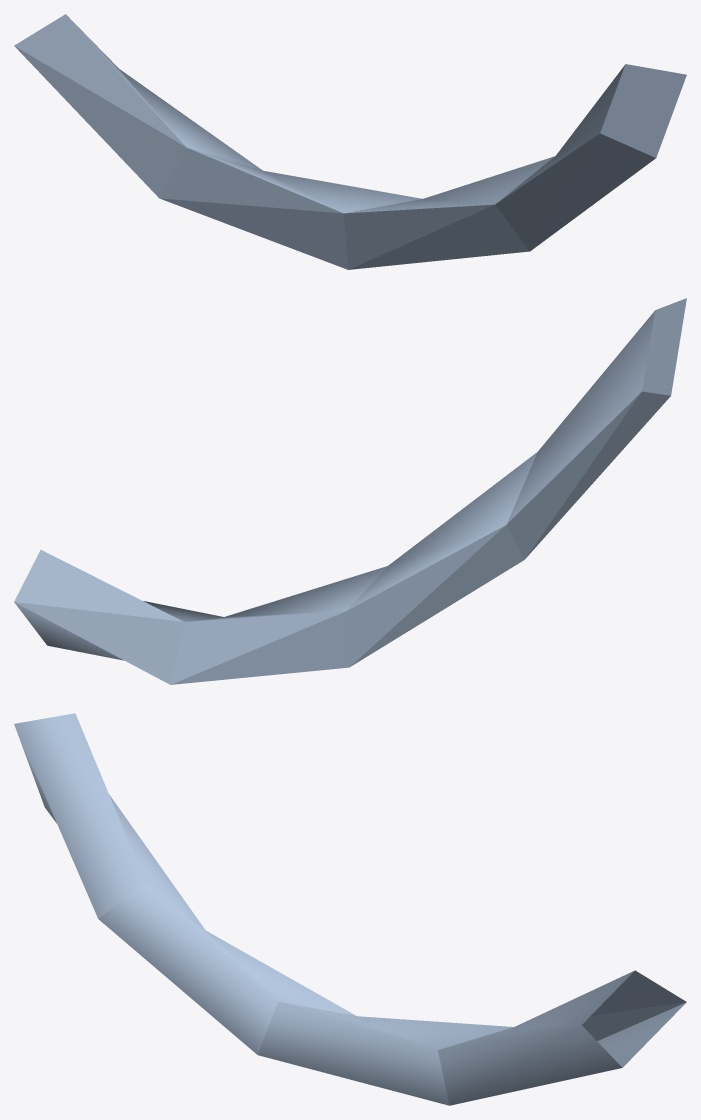
The model's file is original-195.obj.
3 views of the same model, one above another, from view 1: azimuth 90°, elevation 25°; view 2: azimuth 150°, elevation 25°; view 3: azimuth 270°, elevation 25° (orthographic). The views are drawn at different scales.
Visible parts, largest first — view 1: mesh89/mesh89-geometry#mesh89-geometry; view 2: mesh89/mesh89-geometry#mesh89-geometry; view 3: mesh89/mesh89-geometry#mesh89-geometry.
Boxes of the visible parts, x1=… form: mesh89/mesh89-geometry#mesh89-geometry: x1=14, y1=14, x2=686, y2=269; mesh89/mesh89-geometry#mesh89-geometry: x1=14, y1=298, x2=686, y2=684; mesh89/mesh89-geometry#mesh89-geometry: x1=14, y1=713, x2=686, y2=1105.
Size of the model in its own units: 0.00461 by 0.00396 by 0.00854.
